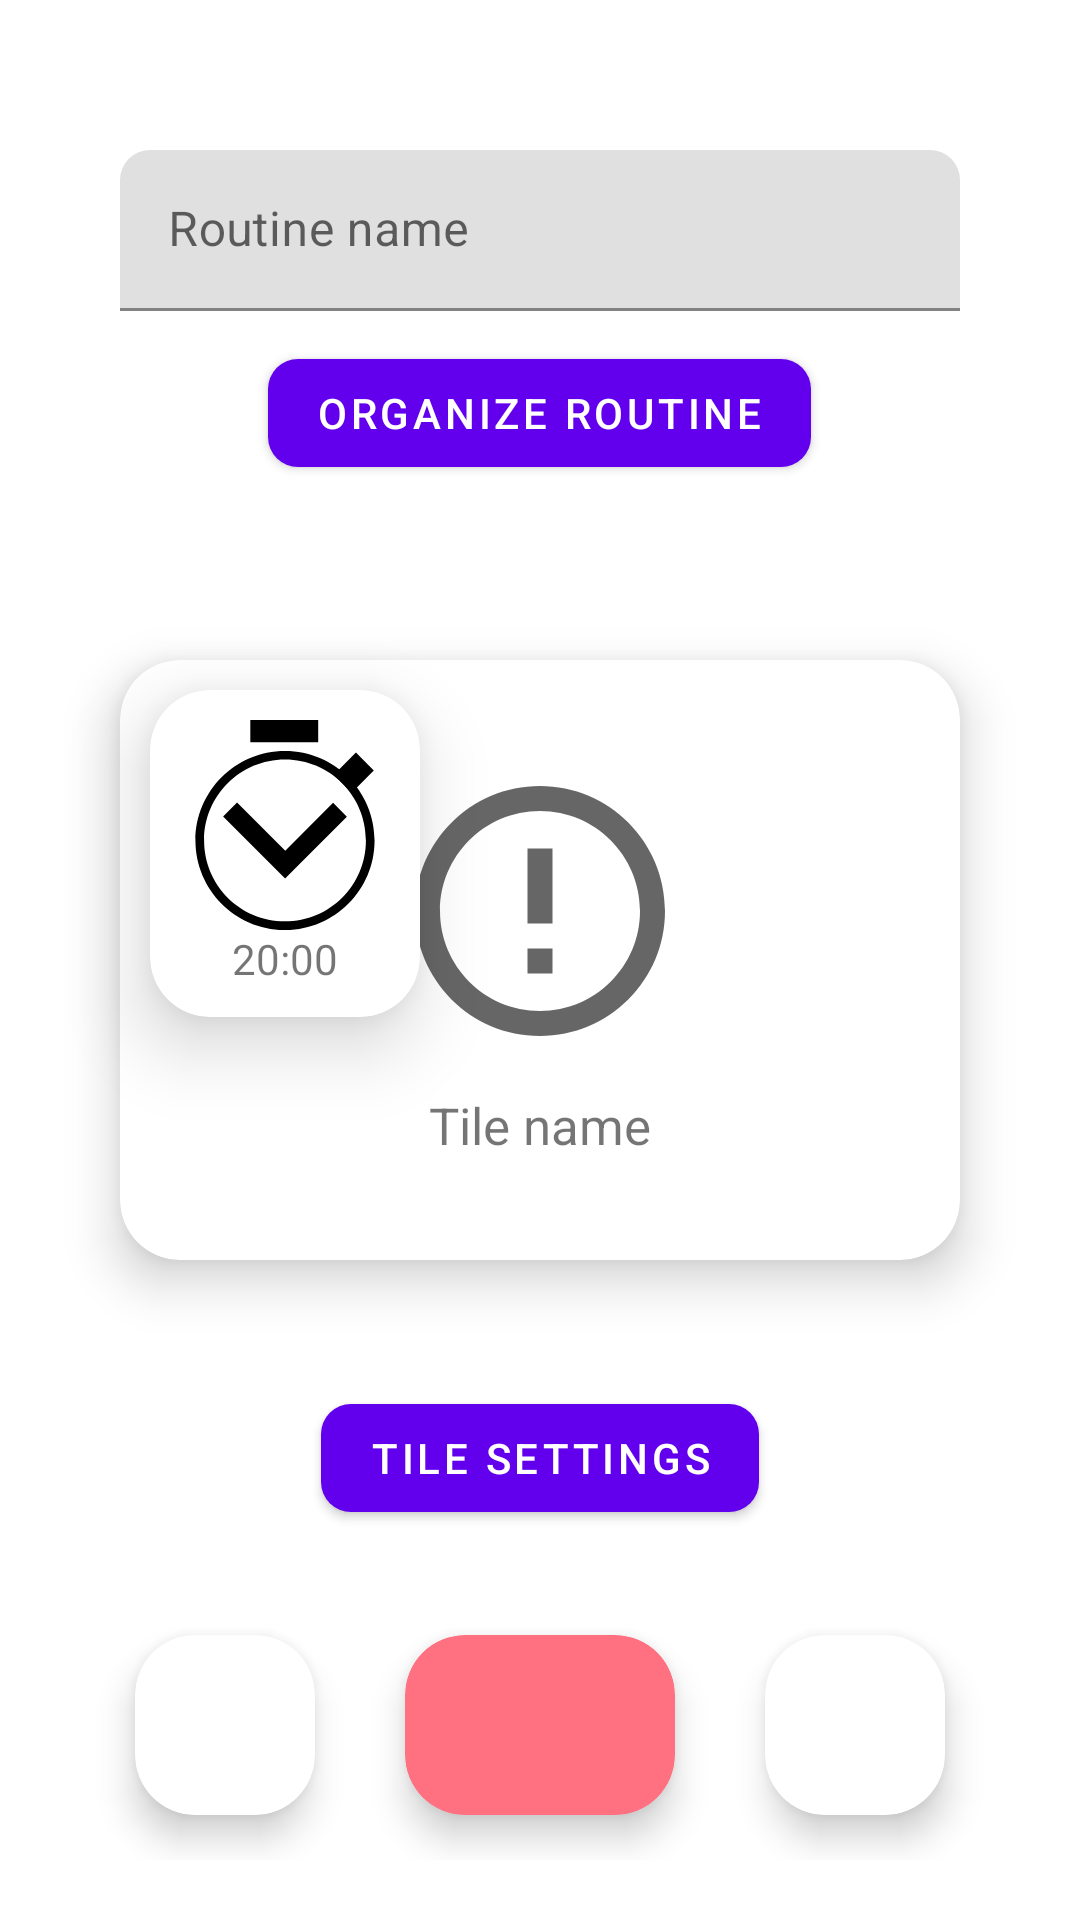

Screen size 1080 × 1920. Icon name, then its center in pixels as (x,y):
mode count down: (285,825)
